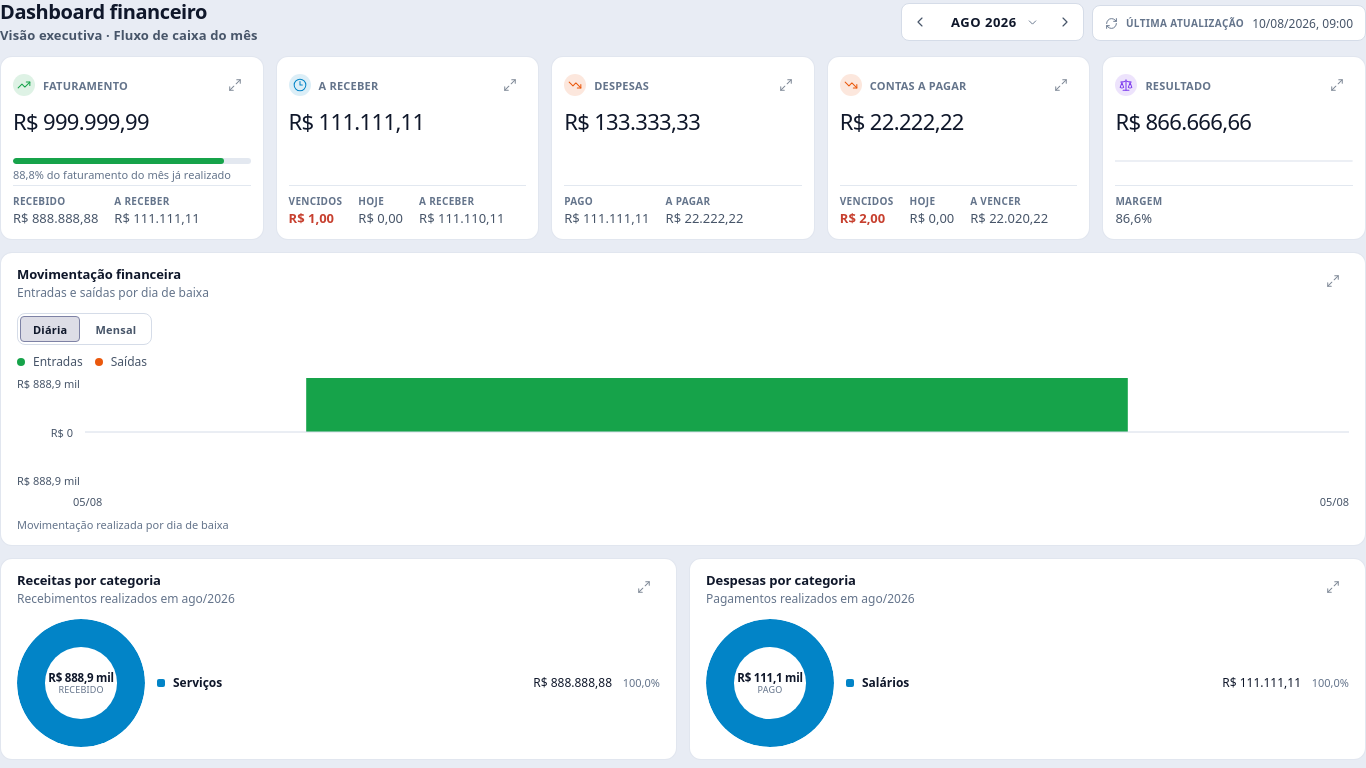
Test: PRE-F13-HOME-POLISH-1 — expansão Home caixa › Z8b — Contas a pagar abre estoque com detalhes lazy
Expected: the element named "Resumo financeiro de caixa do mês" is shown, [0,56,1365,240]
Expected: the button "Contas a pagar" is shown, [827,56,1090,240]
Click the 4th button named "Expandir". click: (1061, 85)
box: [1045,69,1077,101]
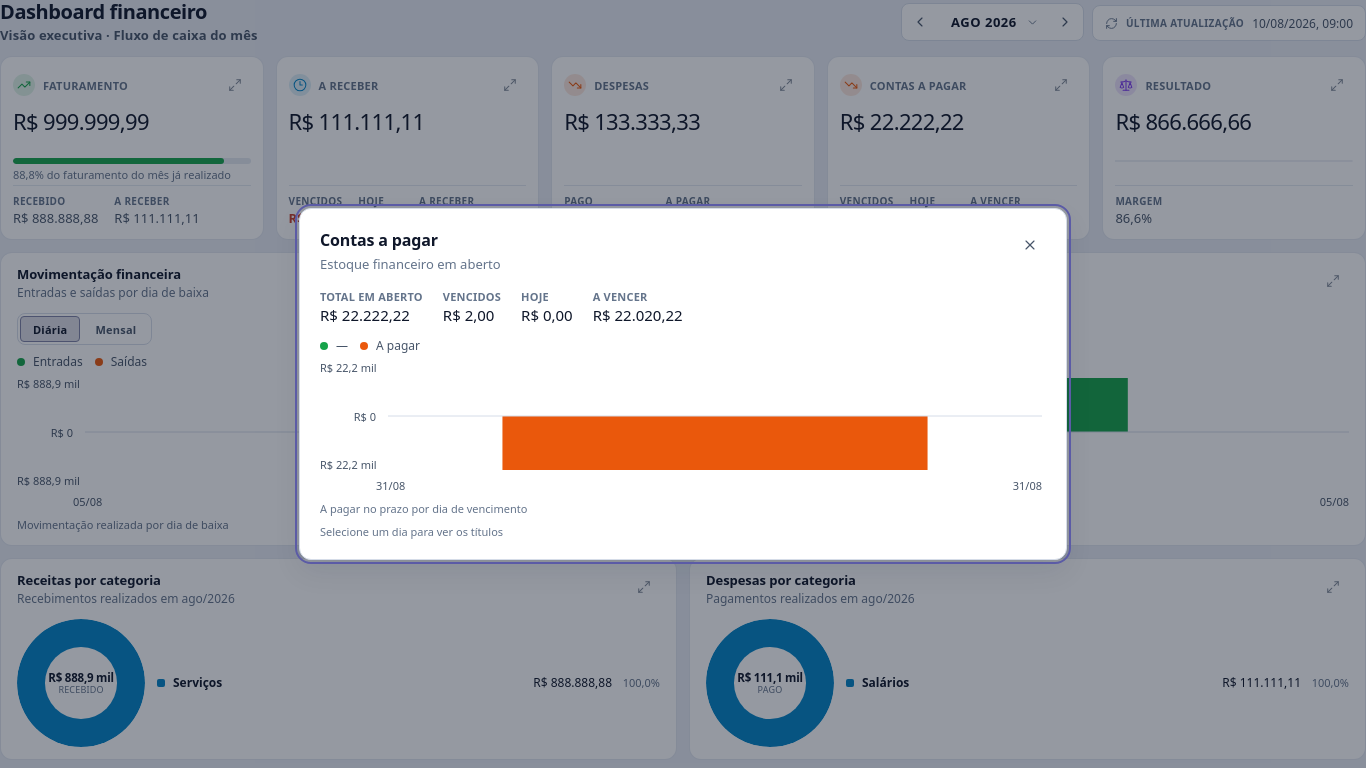
Expected: the heading "Contas a pagar" is shown, [320,229,438,251]
Expected: the text "Total em aberto" is shown, [320,289,423,304]
Expected: the text "R$ 22.222,22" is shown, [320,305,423,325]
